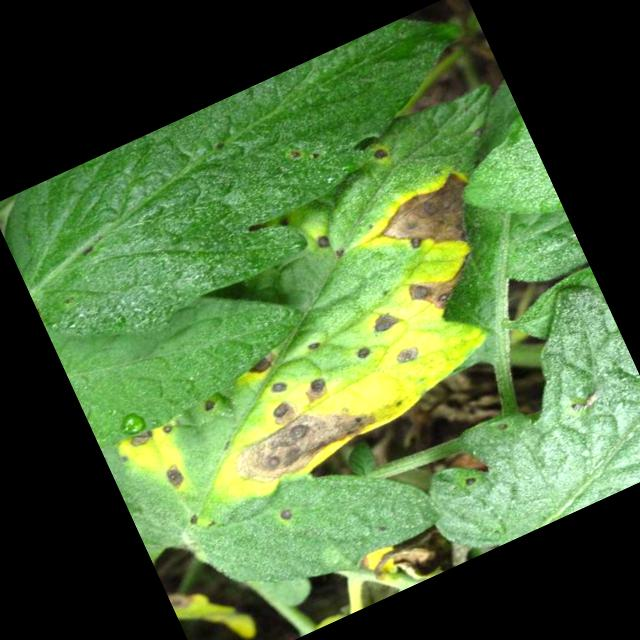Early_blight: (224, 385, 390, 502), (349, 164, 492, 282), (401, 247, 494, 322), (266, 394, 304, 428), (243, 352, 282, 384), (300, 373, 335, 406), (160, 459, 193, 493), (369, 306, 404, 337), (393, 340, 426, 370), (126, 426, 157, 453), (368, 142, 396, 171), (266, 376, 293, 401), (313, 230, 336, 253), (276, 506, 298, 525), (355, 344, 376, 363), (201, 396, 220, 414), (305, 338, 326, 354)
